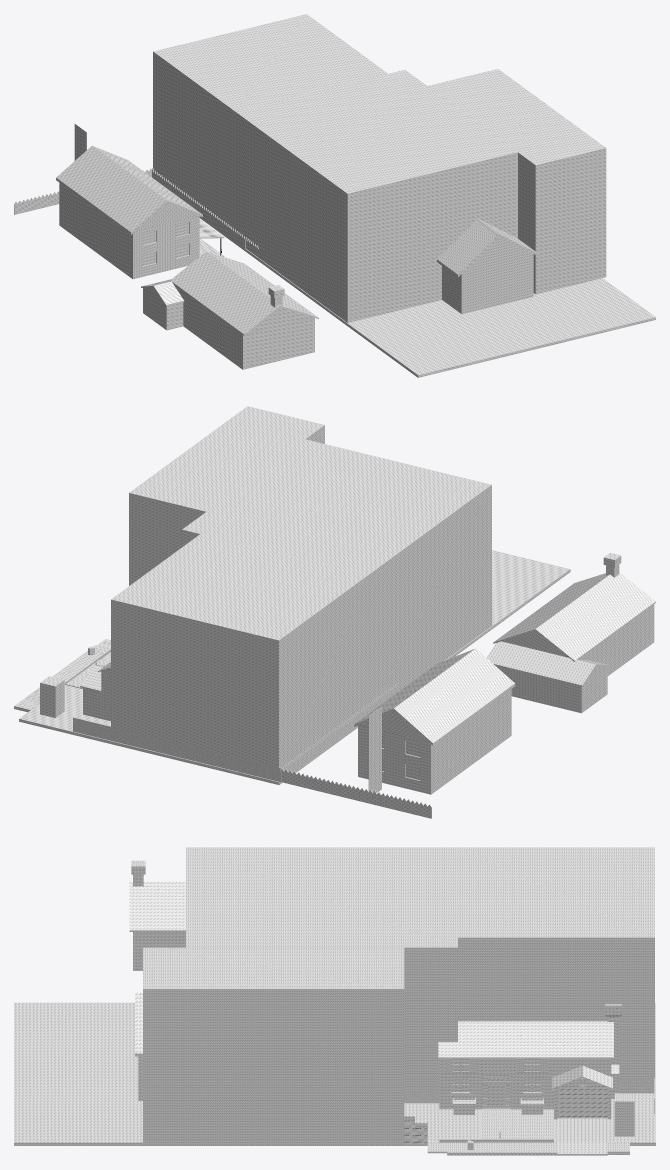
Rendered from simpson-blocka.obj.
3 renders of one model, top to bottom at view 1: azimuth 30°, elevation 25°; view 2: azimuth 150°, elevation 25°; view 3: azimuth 270°, elevation 25°, orthographic. The views are drawn at different scales.
Visible parts, largest first — view 1: entity0_brush521, entity0_brush520, entity0_brush522, entity0_brush556, entity0_brush478, entity0_brush14, entity0_brush23, entity0_brush408, entity0_brush480, entity0_brush406, entity0_brush15, entity0_brush22 (+6 smaller); view 2: entity0_brush520, entity0_brush521, entity0_brush522, entity0_brush556, entity0_brush478, entity0_brush23, entity0_brush480, entity0_brush94, entity0_brush524, entity0_brush14, entity0_brush397, entity0_brush22 (+12 smaller); view 3: entity0_brush522, entity0_brush520, entity0_brush521, entity0_brush556, entity0_brush334, entity0_brush22, entity0_brush545, entity0_brush394, entity0_brush518, entity0_brush14, entity0_brush544, entity0_brush401 (+8 smaller).
Part boxes in pixels (bbox=[...]): entity0_brush521: bbox=[234, 70, 517, 322]; entity0_brush520: bbox=[153, 14, 387, 229]; entity0_brush522: bbox=[428, 69, 606, 294]; entity0_brush556: bbox=[199, 217, 655, 377]; entity0_brush478: bbox=[56, 146, 166, 234]; entity0_brush14: bbox=[173, 284, 314, 369]; entity0_brush23: bbox=[170, 251, 280, 335]; entity0_brush408: bbox=[442, 254, 533, 313]; entity0_brush480: bbox=[60, 183, 131, 278]; entity0_brush406: bbox=[437, 220, 498, 276]; entity0_brush15: bbox=[143, 287, 183, 330]; entity0_brush22: bbox=[207, 251, 318, 318]; entity0_brush520: bbox=[111, 534, 368, 780]; entity0_brush521: bbox=[182, 439, 491, 704]; entity0_brush522: bbox=[129, 406, 324, 585]; entity0_brush556: bbox=[19, 550, 570, 784]; entity0_brush478: bbox=[393, 648, 515, 745]; entity0_brush23: bbox=[535, 572, 655, 661]; entity0_brush480: bbox=[432, 690, 510, 793]; entity0_brush94: bbox=[73, 721, 280, 781]; entity0_brush524: bbox=[73, 717, 280, 781]; entity0_brush14: bbox=[579, 604, 654, 675]; entity0_brush397: bbox=[281, 771, 431, 818]; entity0_brush22: bbox=[493, 573, 609, 643]; entity0_brush522: bbox=[143, 947, 404, 1144]; entity0_brush520: bbox=[458, 847, 654, 1093]; entity0_brush521: bbox=[186, 847, 457, 1103]; entity0_brush556: bbox=[14, 1002, 655, 1145]; entity0_brush334: bbox=[438, 1021, 613, 1057]; entity0_brush22: bbox=[129, 881, 185, 931]; entity0_brush545: bbox=[480, 1109, 553, 1142]; entity0_brush394: bbox=[557, 1088, 607, 1118]; entity0_brush518: bbox=[557, 1118, 607, 1142]; entity0_brush14: bbox=[133, 932, 185, 970]; entity0_brush544: bbox=[614, 1093, 634, 1136]; entity0_brush401: bbox=[463, 1142, 557, 1151].
Bounding box in the file's own units: 2480 × 784 × 2868.
